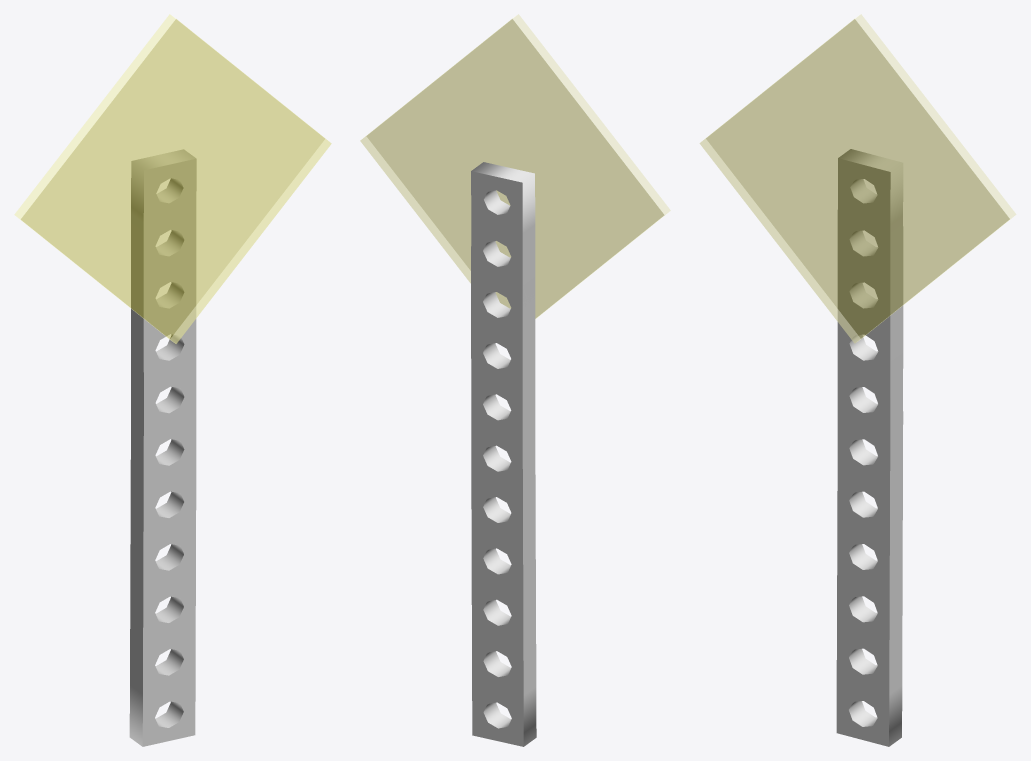
Rendered from stop sign 2.fbx.
3 renders of one model, left to right at view 1: azimuth 30°, elevation 25°; view 2: azimuth 150°, elevation 25°; view 3: azimuth 330°, elevation 25°, orthographic. The views are drawn at different scales.
Visible parts, largest first — view 1: Plane.022; view 2: Plane.022; view 3: Plane.022.
Boxes of the visible parts, x1,y1,x2,y2 form: Plane.022: (14,14,331,746); Plane.022: (360,14,670,746); Plane.022: (699,14,1016,746).
Size of the model in its own units: 261 by 583 by 29.9.
